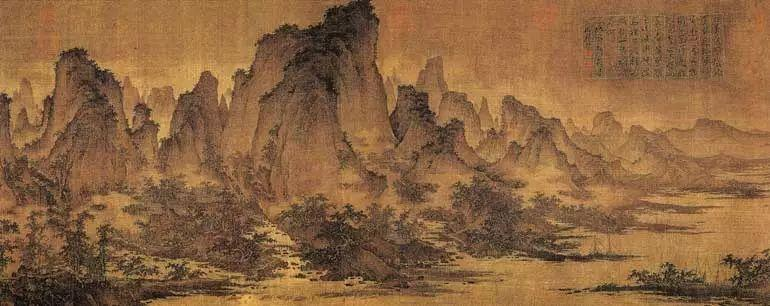boat: (588, 232, 644, 266)
creek: (255, 221, 321, 287), (124, 250, 243, 284)
range: (4, 4, 635, 171)
river: (437, 249, 648, 306), (643, 187, 770, 276)
tree: (60, 229, 109, 278), (458, 184, 507, 229), (24, 208, 48, 275), (215, 199, 242, 246), (733, 256, 769, 288)
